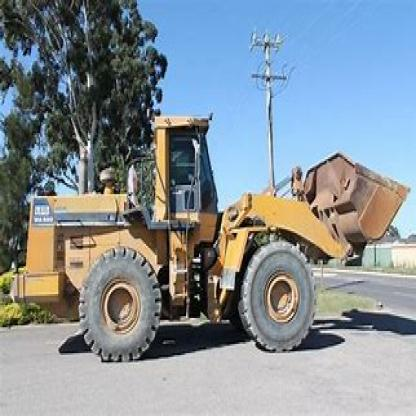bull_dozer/loader/grader: (13, 102, 408, 364)
